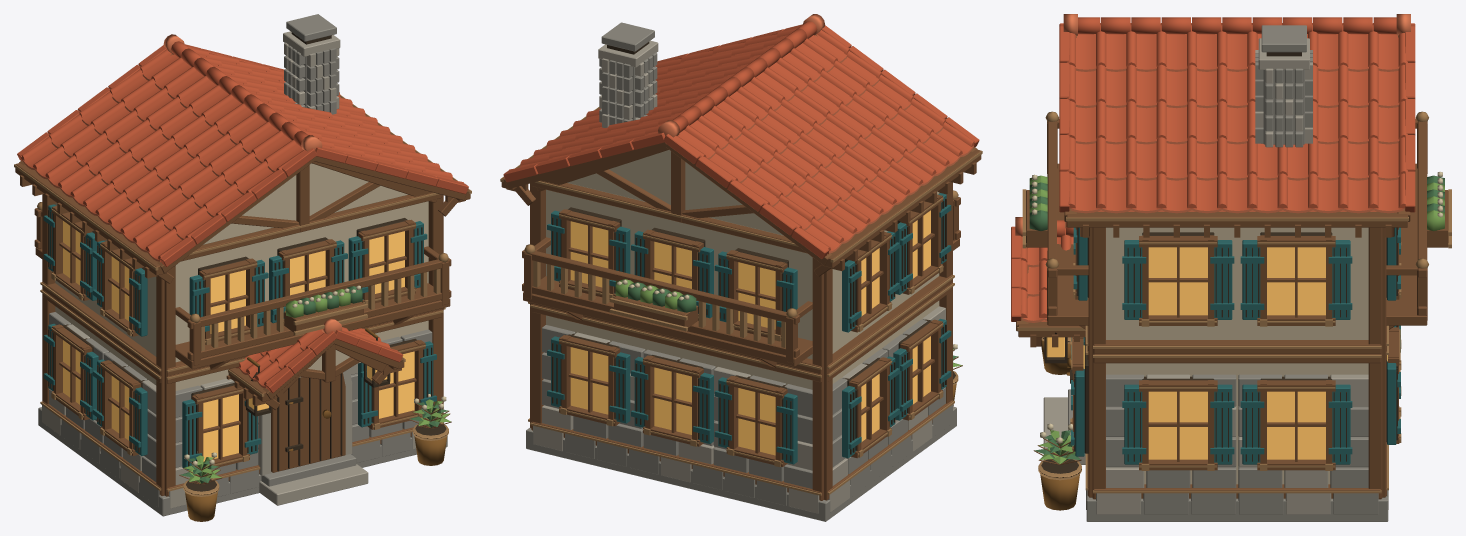
The picture shows the model from 3 angles, left to right: view 1: azimuth 30°, elevation 25°; view 2: azimuth 150°, elevation 25°; view 3: azimuth 270°, elevation 25°; orthographic projection. The views are drawn at different scales.
Parts seen in each view (by area): view 1: alpine_hotel_2_geometry, alpine_hotel_2_geometry ceramic; view 2: alpine_hotel_2_geometry, alpine_hotel_2_geometry ceramic; view 3: alpine_hotel_2_geometry, alpine_hotel_2_geometry ceramic.
Part boxes in pixels (x1,y1,x2,y2): alpine_hotel_2_geometry: [14, 14, 471, 521]; alpine_hotel_2_geometry ceramic: [17, 34, 468, 393]; alpine_hotel_2_geometry: [500, 22, 982, 521]; alpine_hotel_2_geometry ceramic: [503, 14, 979, 258]; alpine_hotel_2_geometry: [1016, 25, 1451, 521]; alpine_hotel_2_geometry ceramic: [1011, 14, 1415, 322].
Size of the model in its own units: 0.99 by 1.12 by 0.98.
